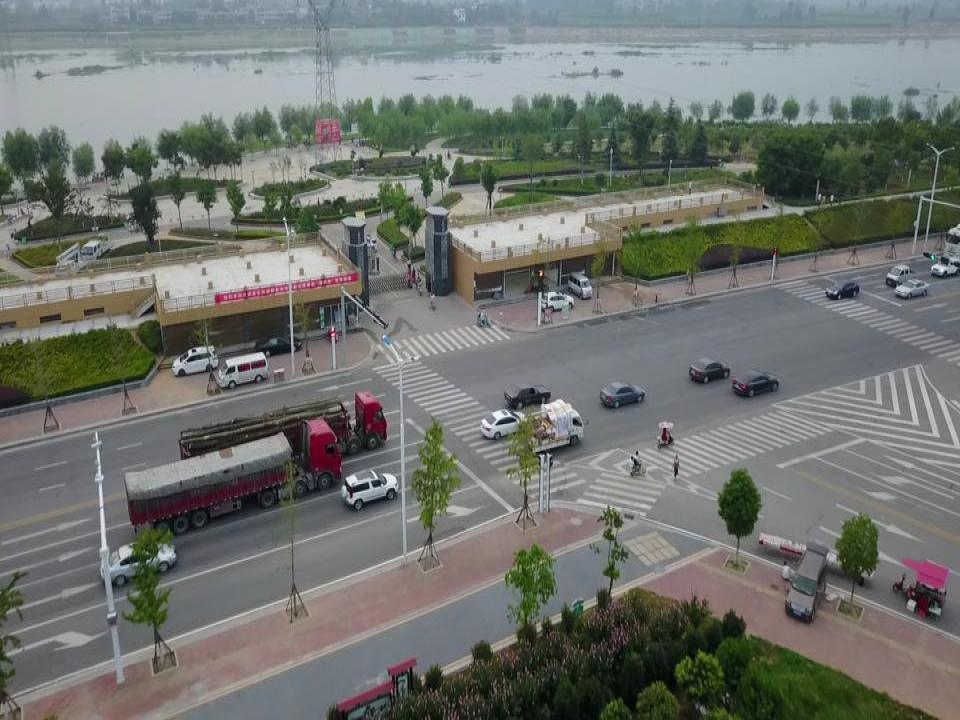car: (99, 538, 178, 586), (340, 470, 399, 510), (479, 408, 529, 440), (171, 344, 219, 377), (502, 382, 552, 410), (731, 368, 779, 397), (598, 380, 645, 408), (254, 332, 302, 357), (687, 356, 730, 383), (824, 277, 859, 300), (885, 264, 918, 288), (894, 277, 930, 299), (540, 291, 574, 313), (930, 255, 960, 278)
truck: (123, 417, 342, 540), (177, 389, 387, 480), (516, 403, 588, 456), (80, 239, 114, 264)
van: (784, 541, 829, 623), (216, 351, 270, 389), (567, 272, 592, 299)
